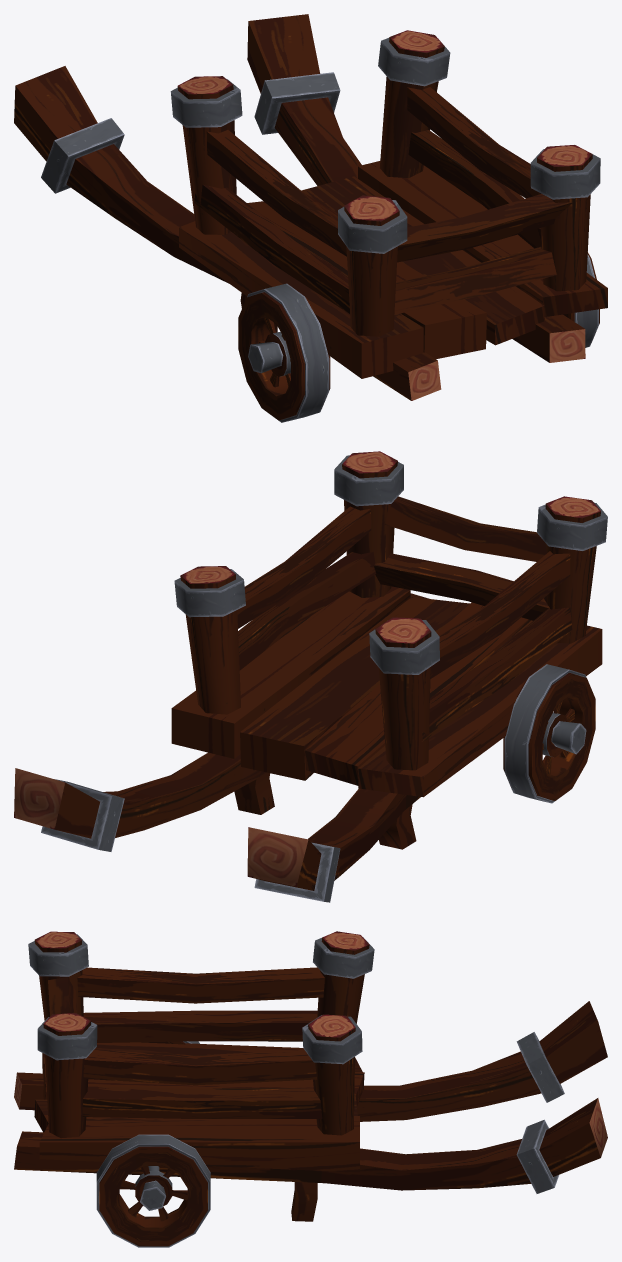
The model's file is carretilla01.glb.
3 renders of one model, top to bottom at view 1: azimuth 30°, elevation 25°; view 2: azimuth 150°, elevation 25°; view 3: azimuth 270°, elevation 25°, orthographic. The views are drawn at different scales.
Parts seen in each view (by area): view 1: carretilla01; view 2: carretilla01; view 3: carretilla01.
Part boxes in pixels (x1,y1,x2,y2): carretilla01: [14, 14, 607, 422]; carretilla01: [14, 451, 607, 902]; carretilla01: [14, 931, 607, 1247].
Bounding box in the file's own units: 2.34 × 1.68 × 4.38.
Materials: 3 (3 with a texture image).
